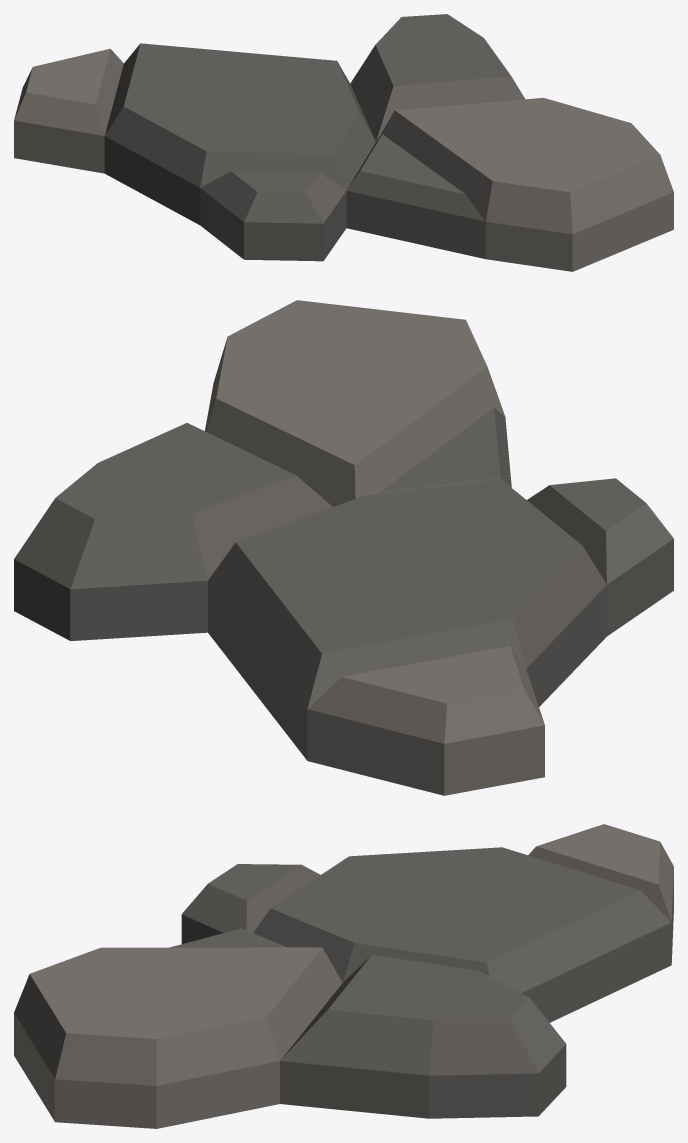
The model's file is flatrock5.fbx.
The picture shows the model from 3 angles, top to bottom: view 1: azimuth 30°, elevation 25°; view 2: azimuth 150°, elevation 25°; view 3: azimuth 270°, elevation 25°; orthographic projection. The views are drawn at different scales.
Parts seen in each view (by area): view 1: FlatRock5; view 2: FlatRock5; view 3: FlatRock5.
Part boxes in pixels (x1,y1,x2,y2): FlatRock5: (14, 14, 673, 271); FlatRock5: (14, 300, 673, 795); FlatRock5: (14, 824, 673, 1128).
Bounding box in the file's own units: 1.86 × 0.3156 × 2.14.
